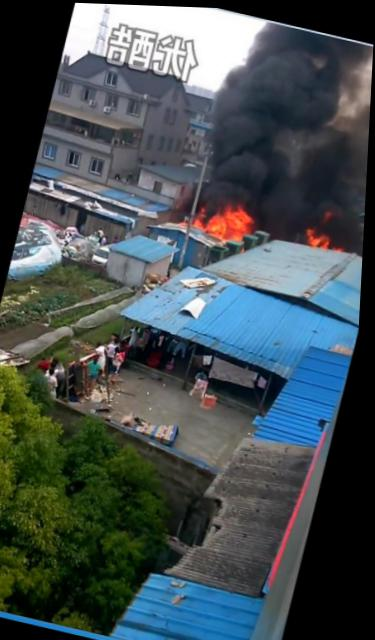fire: (223, 202, 259, 239), (307, 225, 337, 246), (207, 206, 229, 234), (193, 212, 210, 227)
